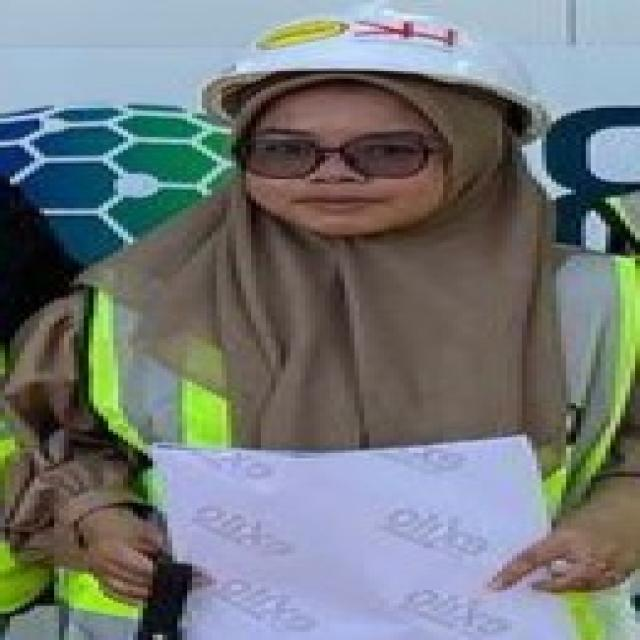safetyhelmet: (200, 9, 543, 174)
